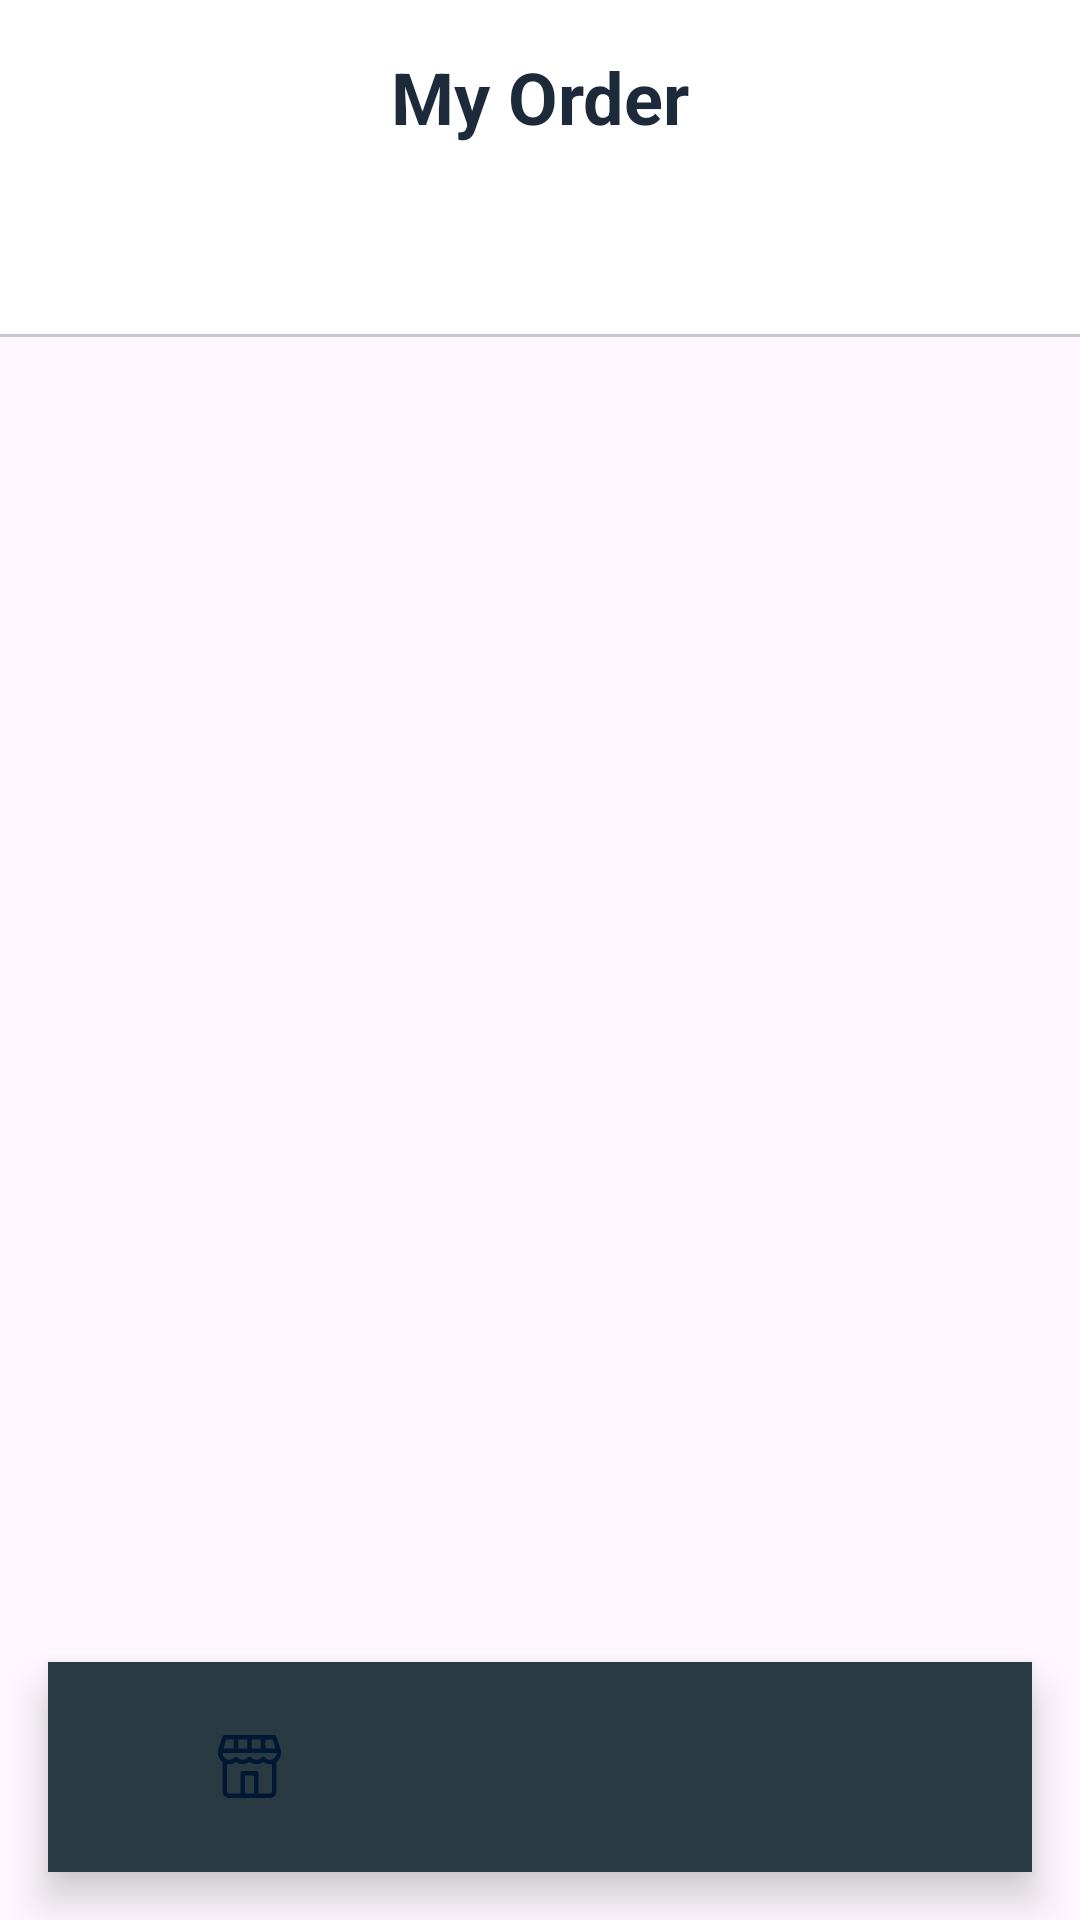

Where to tap for icons on this 1080w x 1920h app screen, as (x=x, y=y):
store: (x=249, y=1766)
